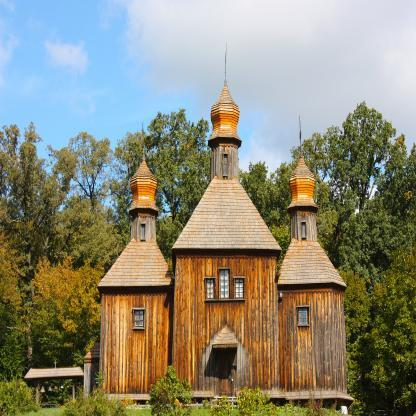Building Outline: (97, 77, 355, 415)
Dont: (63, 370, 141, 416), (144, 365, 196, 416), (208, 384, 281, 416)
Door: (213, 348, 238, 396)
Facade: (115, 263, 332, 405), (234, 278, 245, 299)
Floor: (174, 249, 277, 330), (101, 289, 175, 330), (277, 289, 345, 330), (290, 209, 318, 283), (131, 209, 156, 283)
Floor Slab: (101, 330, 345, 335), (174, 244, 277, 249), (101, 284, 175, 289), (277, 284, 345, 289)
Glass Wall: (276, 238, 347, 287)
Ground Floor: (101, 335, 345, 409)
Roof: (172, 176, 283, 251), (97, 237, 174, 287), (208, 86, 242, 149), (286, 158, 319, 215), (129, 161, 159, 217), (212, 325, 238, 348)
Top Floor: (211, 141, 239, 249)
Window: (219, 269, 230, 300), (297, 305, 310, 326), (133, 308, 145, 330), (205, 277, 215, 300), (224, 154, 228, 176), (141, 224, 145, 240), (302, 222, 306, 238)
